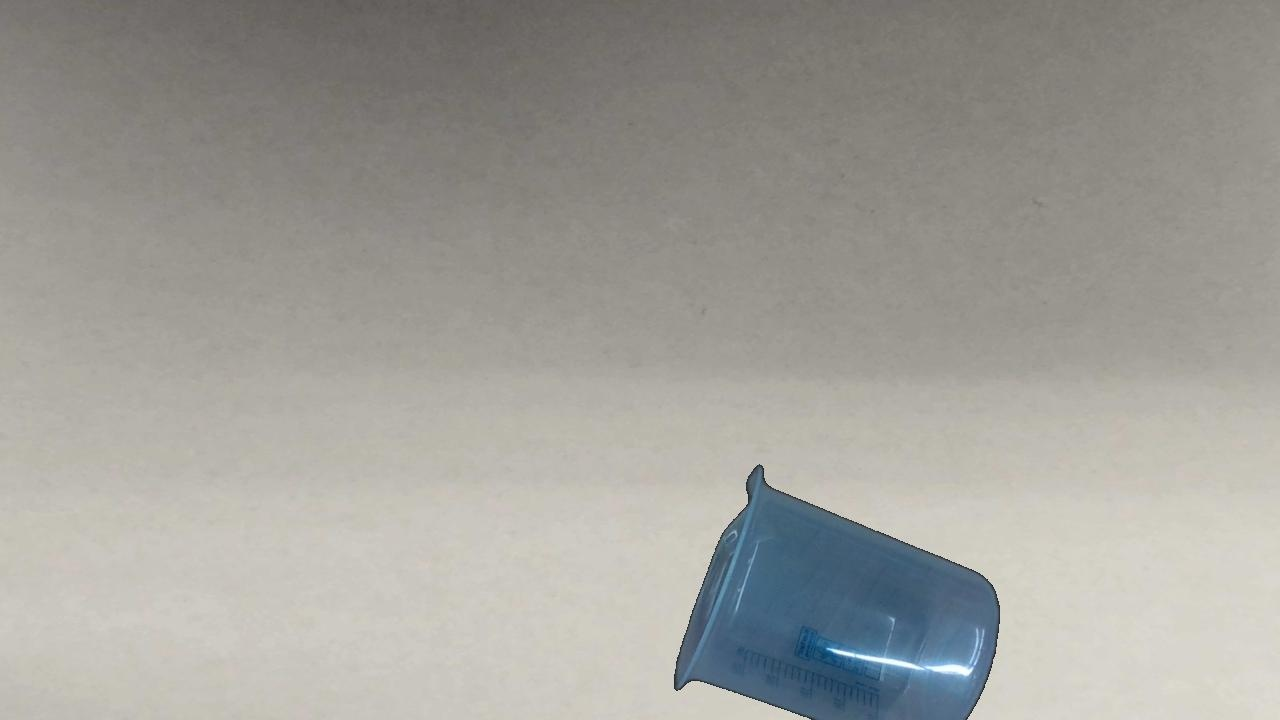becker: (671, 465, 1000, 713)
